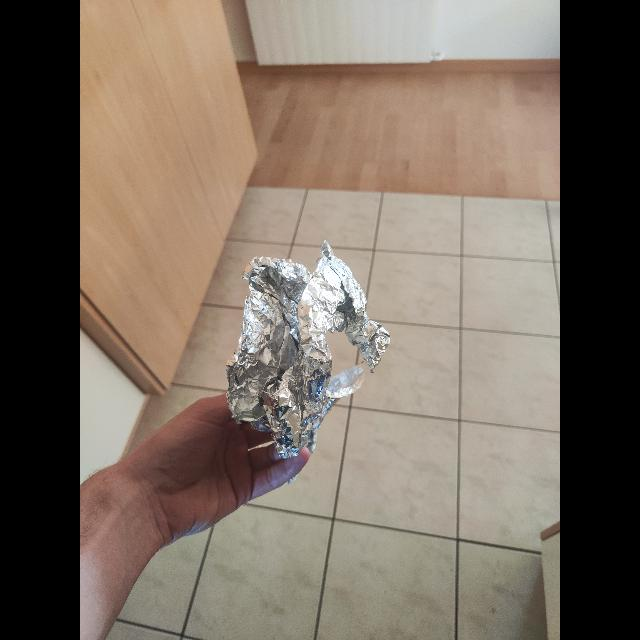Metal: (224, 238, 396, 462)
